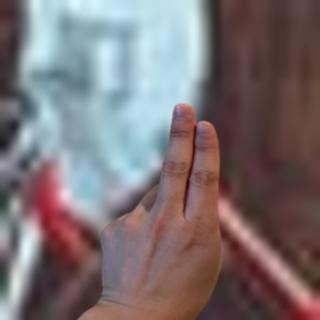DHAVE: (85, 97, 228, 317)
